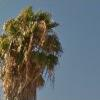Palm tree: (3, 3, 63, 92)
